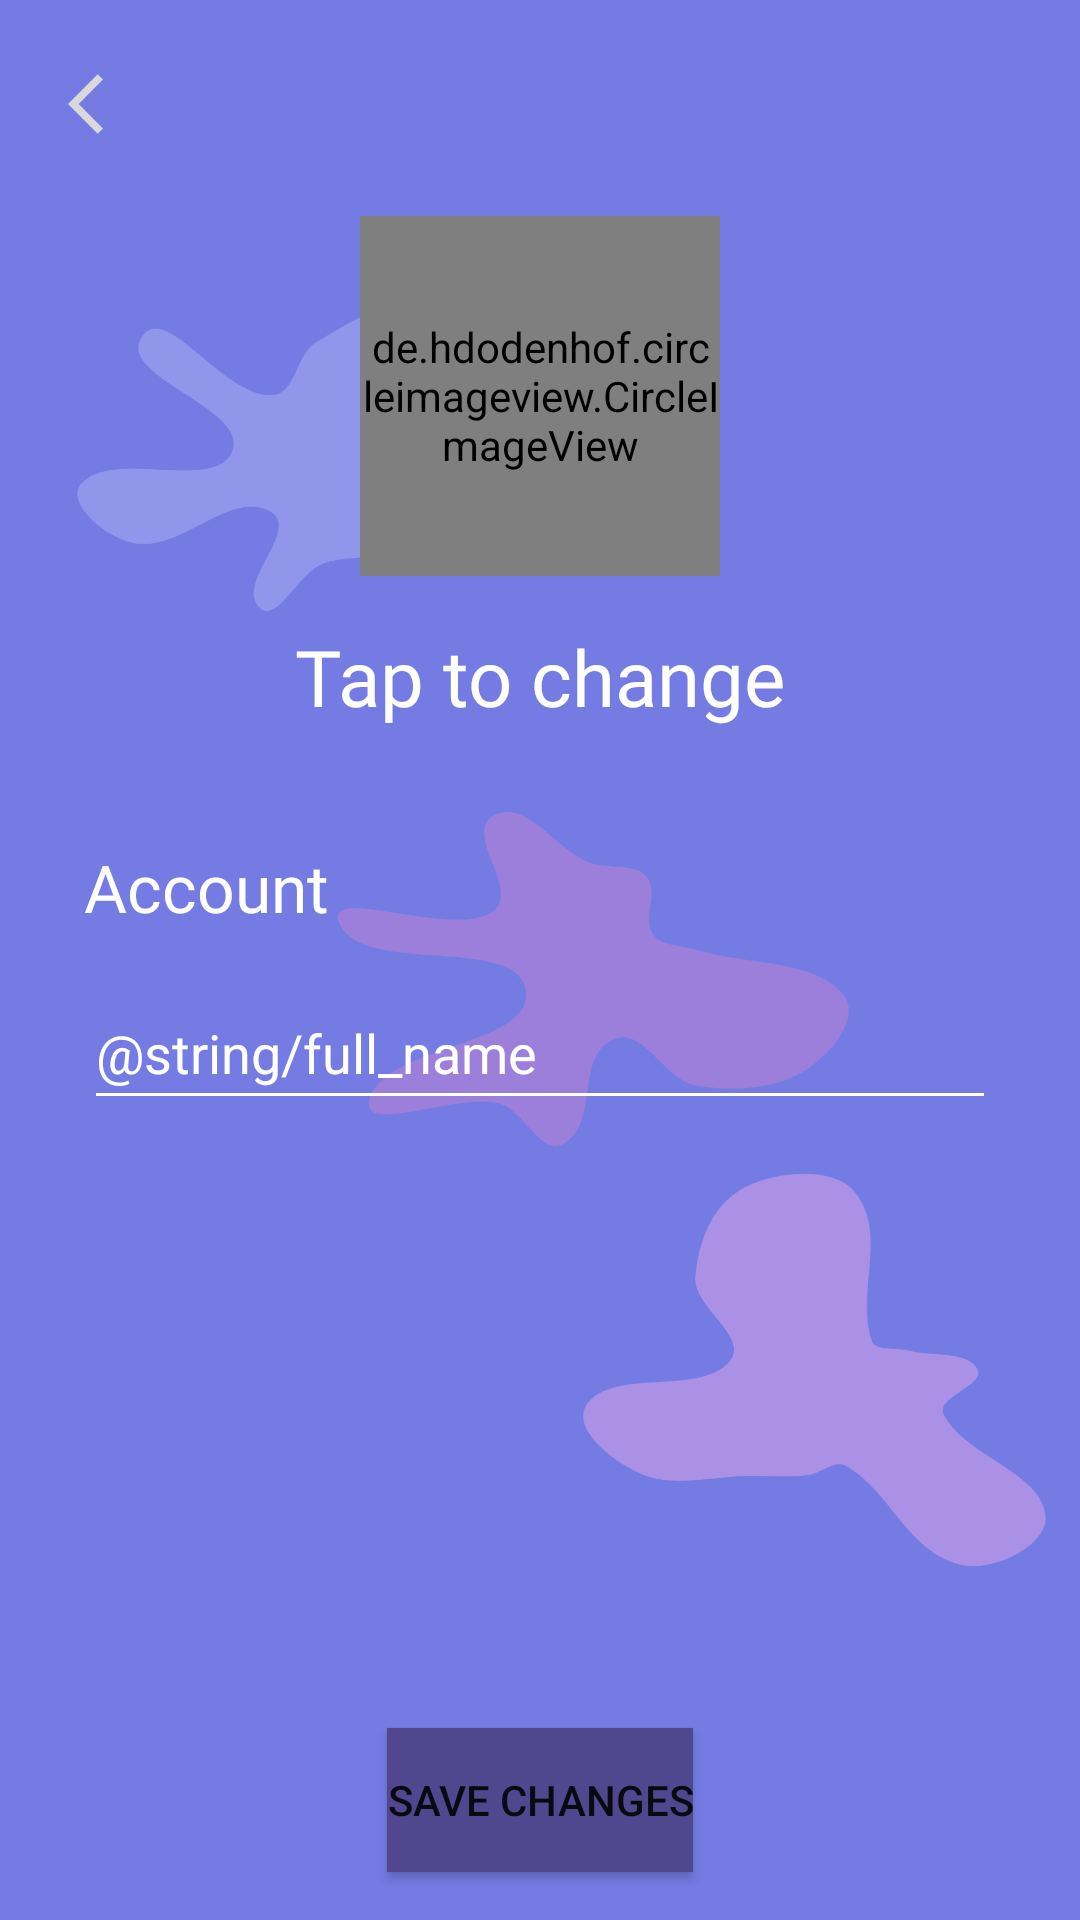

Named icons in this screenshot (1080*1920) and their bounding boxes, bbox(x1, y1, x2, y2):
Back Button: bbox(68, 74, 103, 134)
